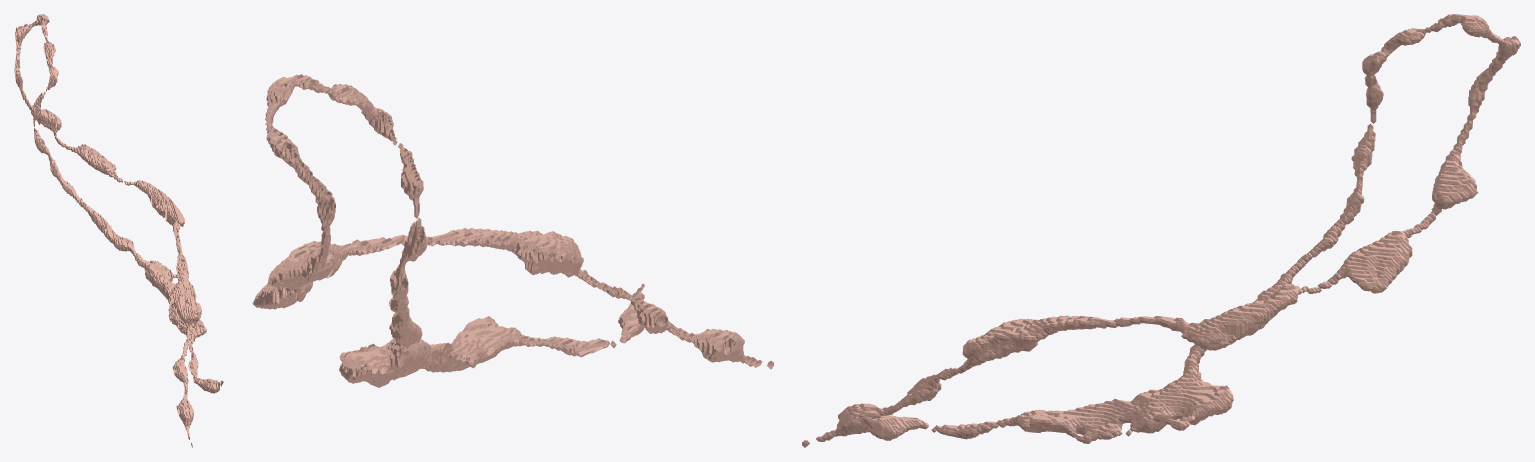
File: SVV_SMBVL.gltf
3 views of the same model, side by side, from view 1: azimuth 30°, elevation 25°; view 2: azimuth 150°, elevation 25°; view 3: azimuth 270°, elevation 25° (orthographic). The views are drawn at different scales.
Parts seen in each view (by area): view 1: SMBVL; view 2: SMBVL; view 3: SMBVL.
Boxes of the visible parts, x1,y1,x2,y2 form: SMBVL: (14, 14, 223, 447); SMBVL: (252, 74, 773, 387); SMBVL: (802, 14, 1520, 447).
Size of the model in its own units: 50768 by 121333 by 168158.
